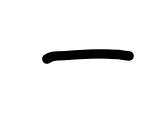minus: (43, 49, 135, 62)
